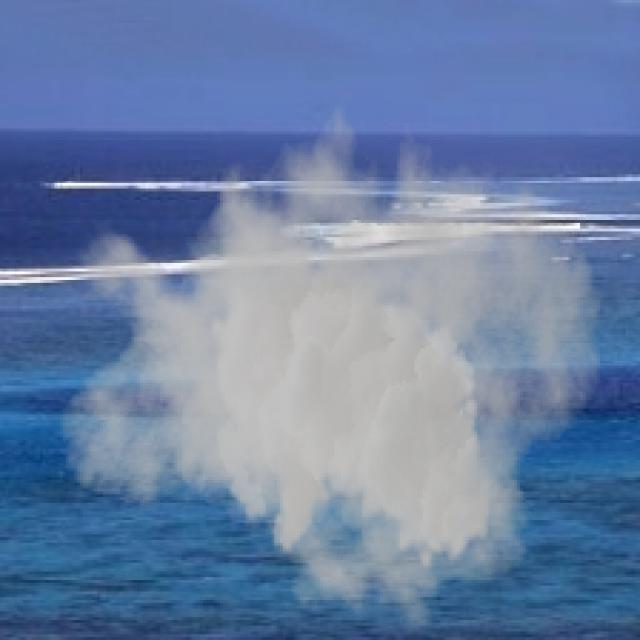smoke: (57, 80, 603, 631)
